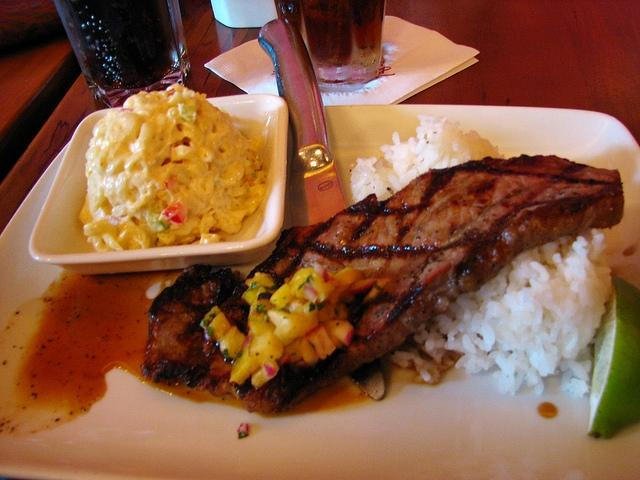bell pepper: (164, 202, 187, 223), (178, 102, 197, 124), (322, 267, 334, 282), (166, 88, 175, 98), (120, 108, 134, 111)
lime: (587, 275, 640, 439)
